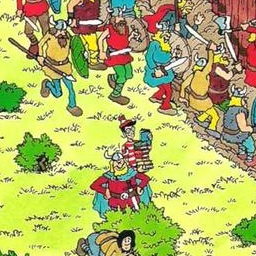waldo: (118, 114, 137, 142)
